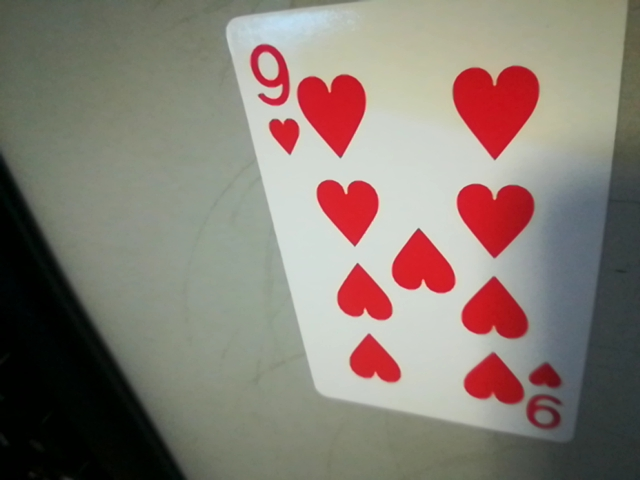hx 9: (236, 32, 302, 159)
